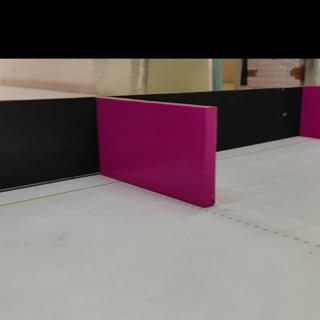xparking: (100, 109, 215, 198)
